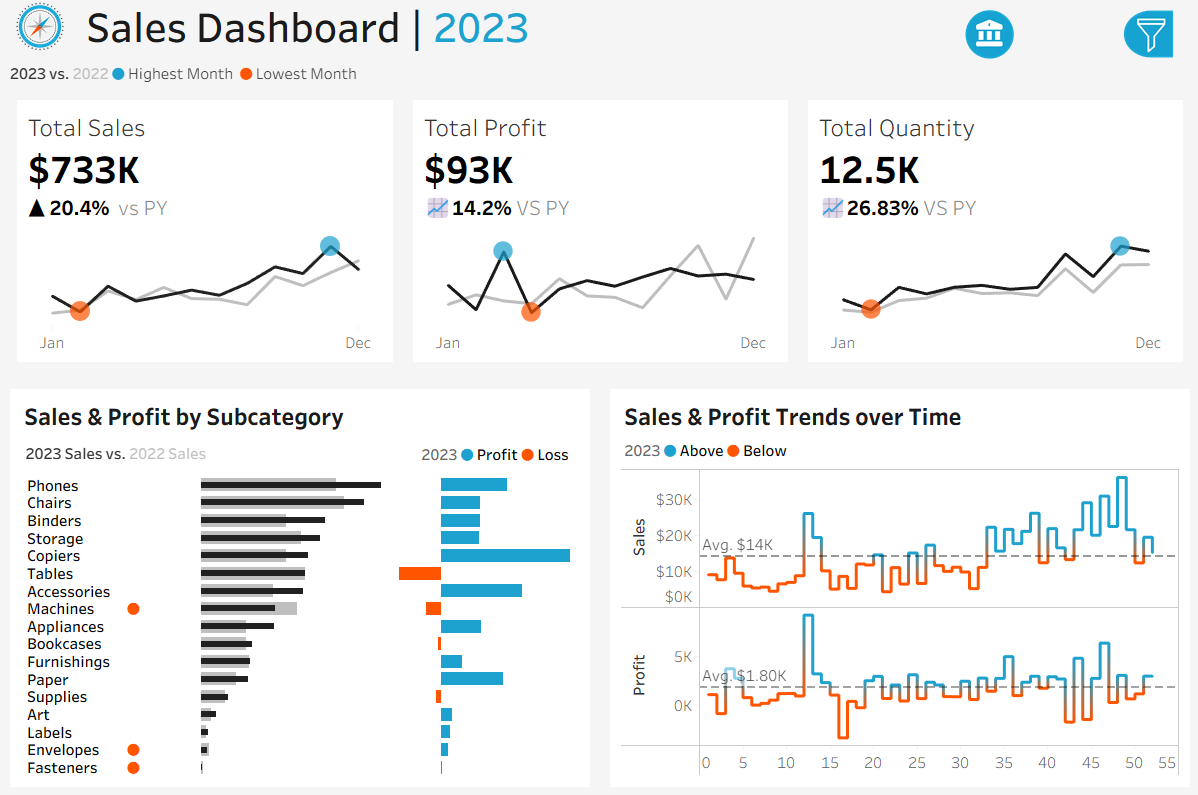

The page's visual inventory and layout, read from the dashboard file:
{"tool":"tableau","page":{"name":"Sales Dashboard","canvas":[1200,800],"ordinal":0},"visuals":[{"type":"image","param":"Image/Icon - Logo.png","box":[0,0,79,58]},{"type":"text","box":[79,0,797,58]},{"type":"dashboard-object","box":[910,8,158,58]},{"type":"blank","box":[934,11,247,66]},{"type":"worksheet","title":"Legend KPI","mark":"Automatic","box":[0,58,1200,38]},{"type":"text","box":[934,77,247,40]},{"type":"worksheet","title":"KPI sales","mark":"Line","rows":["Calculation_162974078430535686"],"cols":["Order Date"],"box":[7,103,396,272]},{"type":"worksheet","title":"KPI Profit","mark":"Automatic","rows":["Calculation_1192046593658593295"],"cols":["Order Date"],"box":[403,103,395,272]},{"type":"worksheet","title":"KPI Quantity","mark":"Line","rows":["Calculation_1192046593640480775"],"cols":["Order Date"],"box":[798,103,395,272]},{"type":"parameter","param":"[Parameters].[Parameter 1]","box":[934,117,247,56]},{"type":"blank","box":[934,173,247,32]},{"type":"text","box":[934,205,247,33]},{"type":"filter","title":"KPI sales","param":"[federated.0nedk8i1v7cjp2174lio41v7dnio].[none:Category:nk]","box":[934,238,247,61]},{"type":"filter","title":"KPI sales","param":"[federated.0nedk8i1v7cjp2174lio41v7dnio].[none:Sub-Category:nk]","box":[934,299,247,61]},{"type":"blank","box":[934,360,247,32]},{"type":"text","box":[934,392,247,33]},{"type":"text","box":[17,399,566,40]},{"type":"text","box":[617,399,566,40]},{"type":"filter","title":"KPI sales","param":"[federated.0nedk8i1v7cjp2174lio41v7dnio].[none:Region:nk]","box":[934,425,247,61]},{"type":"worksheet","title":"Legend Sub category Chart","mark":"Automatic","box":[17,439,397,36]},{"type":"text","box":[414,439,169,36]},{"type":"text","box":[617,439,566,29]},{"type":"worksheet","title":"Weekly Trends","mark":"Automatic","rows":["Calculation_162974078423519232","Calculation_1192046593647546378"],"cols":["Order Date"],"box":[617,468,566,315]},{"type":"worksheet","title":"Sub-Category Comparision","mark":"Bar","rows":["Sub-Category","Calculation_1599059376594272256"],"cols":["Current Year Sales (copy)_162974078423871490","Calculation_162974078423519232","Calculation_1192046593647546378"],"box":[17,475,566,307.9]},{"type":"filter","title":"KPI sales","param":"[federated.0nedk8i1v7cjp2174lio41v7dnio].[none:State:nk]","box":[934,486,247,61]},{"type":"filter","title":"KPI sales","param":"[federated.0nedk8i1v7cjp2174lio41v7dnio].[none:City:nk]","box":[934,547,247,61]}]}

Visuals, with their boxes in screenshot pixels (x1, y1, x2, y2), scaled from the page's 1200x800 canvas onto the 1198x795 screenshot:
image: 0, 0, 79, 58
text: 79, 0, 875, 58
dashboard-object: 908, 8, 1066, 66
blank: 932, 11, 1179, 77
"Legend KPI" worksheet: 0, 58, 1197, 95
text: 932, 77, 1179, 116
"KPI sales" worksheet (Line marks): 7, 102, 402, 373
"KPI Profit" worksheet: 402, 102, 797, 373
"KPI Quantity" worksheet (Line marks): 797, 102, 1191, 373
parameter: 932, 116, 1179, 172
blank: 932, 172, 1179, 204
text: 932, 204, 1179, 237
"KPI sales" filter: 932, 237, 1179, 297
"KPI sales" filter: 932, 297, 1179, 358
blank: 932, 358, 1179, 390
text: 932, 390, 1179, 422
text: 17, 397, 582, 436
text: 616, 397, 1181, 436
"KPI sales" filter: 932, 422, 1179, 483
"Legend Sub category Chart" worksheet: 17, 436, 413, 472
text: 413, 436, 582, 472
text: 616, 436, 1181, 465
"Weekly Trends" worksheet: 616, 465, 1181, 778
"Sub-Category Comparision" worksheet (Bar marks): 17, 472, 582, 778
"KPI sales" filter: 932, 483, 1179, 544
"KPI sales" filter: 932, 544, 1179, 604
